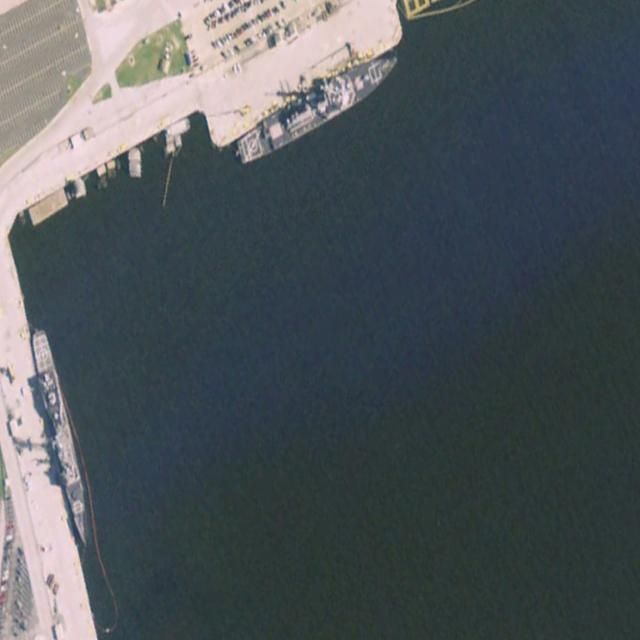Destroyer: (235, 42, 402, 170)
Frigate: (26, 324, 96, 553)
